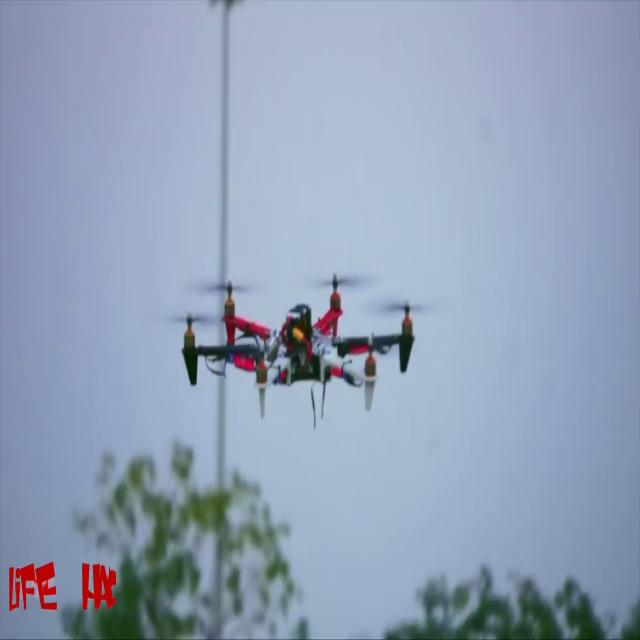drone: (156, 250, 436, 430)
